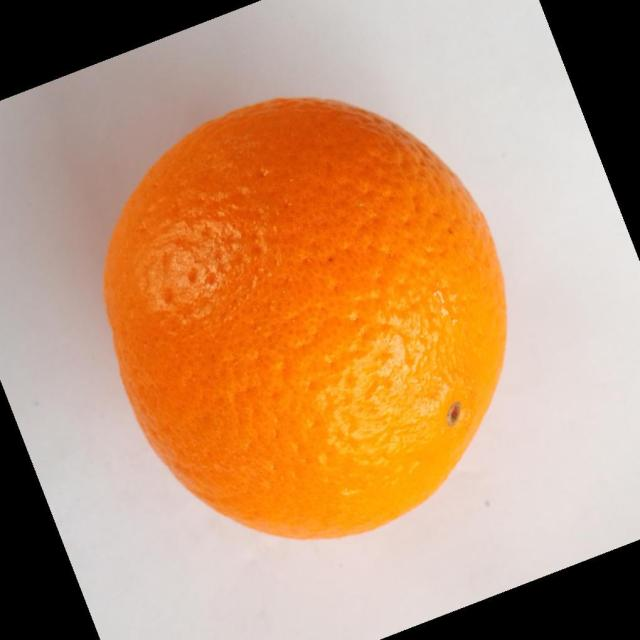fresh orange: (102, 95, 508, 541)
